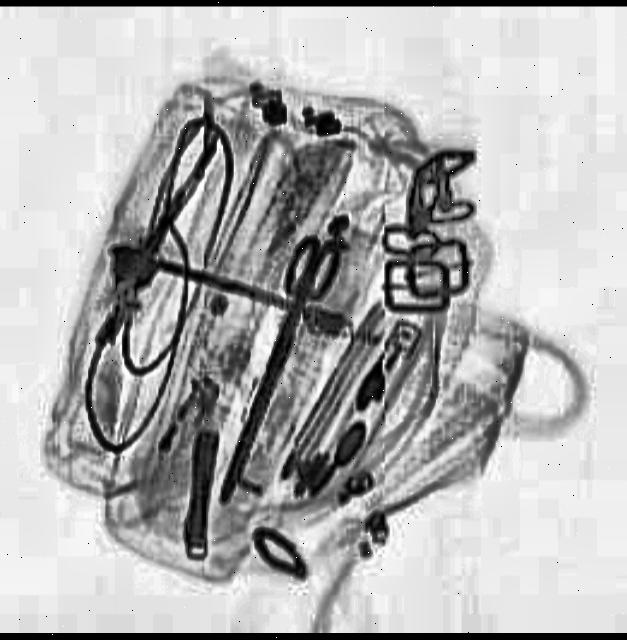Scissors: (206, 234, 349, 517)
